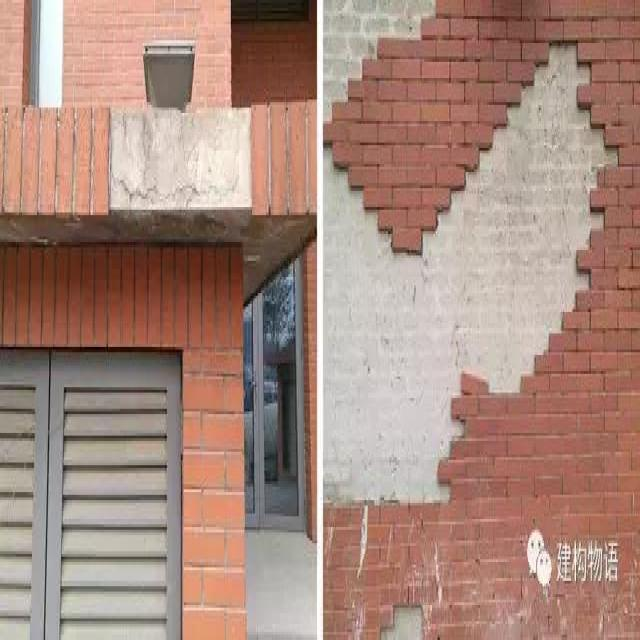tile: (324, 39, 618, 508), (109, 106, 251, 215), (323, 1, 436, 123), (381, 605, 424, 640)
